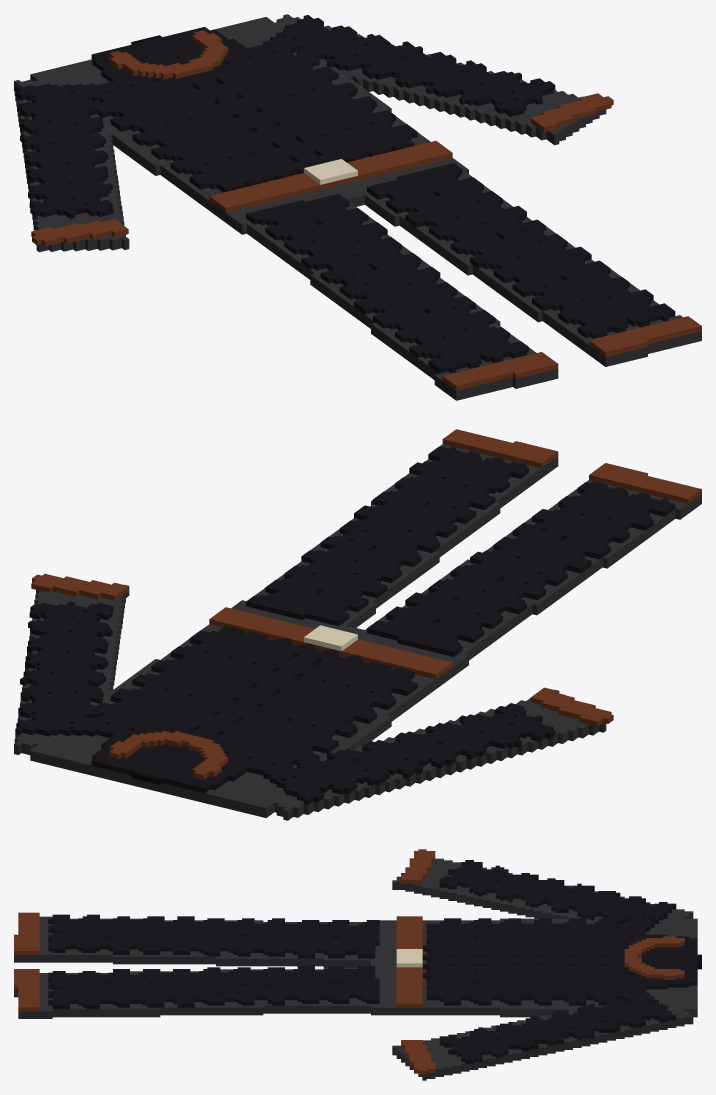
File: suit_xlblack_dragon_scale.glb
3 renders of one model, top to bottom at view 1: azimuth 30°, elevation 25°; view 2: azimuth 150°, elevation 25°; view 3: azimuth 270°, elevation 25°, orthographic. The views are drawn at different scales.
Visible parts, largest first — view 1: suit_xlblack_dragon_scale:compound; view 2: suit_xlblack_dragon_scale:compound; view 3: suit_xlblack_dragon_scale:compound.
Part boxes in pixels (x1,y1,x2,y2): suit_xlblack_dragon_scale:compound: (14, 14, 701, 400); suit_xlblack_dragon_scale:compound: (14, 429, 701, 820); suit_xlblack_dragon_scale:compound: (14, 849, 701, 1080).
Size of the model in its own units: 1.22 by 0.04 by 1.6.
